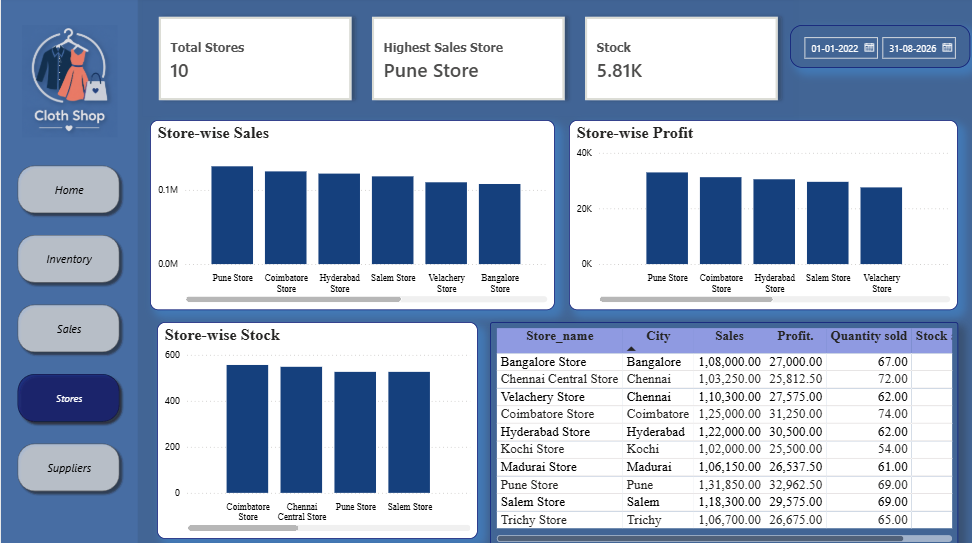

Layout of this report page (visuals, bound fields, positions):
{"tool":"powerbi","page":{"name":"Stores","canvas":[1280,720],"ordinal":3},"visuals":[{"type":"shape","box":[0,0,179.4,719.5],"z":0},{"type":"pageNavigator","box":[14,213,148,443],"z":1000},{"type":"columnChart","title":"Store-wise Sales","fields":{"Category":["STORES.STORE_NAME"],"Y":["INVENTORY_SALES.Total sales"]},"box":[194.9,161.3,530,248.6],"z":2000},{"type":"clusteredColumnChart","title":"Store-wise Profit","fields":{"Category":["STORES.STORE_NAME"],"Y":["INVENTORY_SALES.Total profit"]},"box":[744.1,161.3,509,248.6],"z":3000},{"type":"tableEx","fields":{"Values":["STORES.STORE_NAME","STORES.CITY","INVENTORY_SALES.Total sales","INVENTORY_SALES.Profit.","INVENTORY_SALES.Quantity sold","INVENTORY_SALES.Stock available"]},"box":[640,425,613.1,296],"z":4000},{"type":"clusteredColumnChart","title":"Store-wise Stock","fields":{"Category":["STORES.STORE_NAME"],"Y":["INVENTORY_SALES.Stock available"]},"box":[204.5,424.8,420.5,283.7],"z":5000},{"type":"cardVisual","fields":{"Data":["STORES.Total Stores","DATES.Highest Sales Store","SUPPLIERS.Stock"]},"box":[180,0,864,161.3],"z":6000},{"type":"slicer","fields":{"Values":["DATES.Date"]},"box":[1032.5,36,236.2,56.2],"z":7000},{"type":"image","box":[10.1,36,158.4,146.9],"z":8000}]}

Visuals, with their boxes in screenshot pixels (x1, y1, x2, y2), scaled from the page's 1280x720 canvas onto the 972x543 screenshot:
shape: left=0, top=0, right=136, bottom=542
pageNavigator: left=11, top=161, right=123, bottom=495
"Store-wise Sales" columnChart: left=148, top=122, right=550, bottom=309
"Store-wise Profit" clusteredColumnChart: left=565, top=122, right=952, bottom=309
tableEx - STORES.STORE_NAME x STORES.CITY: left=486, top=321, right=952, bottom=542
"Store-wise Stock" clusteredColumnChart: left=155, top=320, right=475, bottom=534
cardVisual - STORES.Total Stores x DATES.Highest Sales Store: left=137, top=0, right=793, bottom=122
slicer - DATES.Date: left=784, top=27, right=963, bottom=70
image: left=8, top=27, right=128, bottom=138
